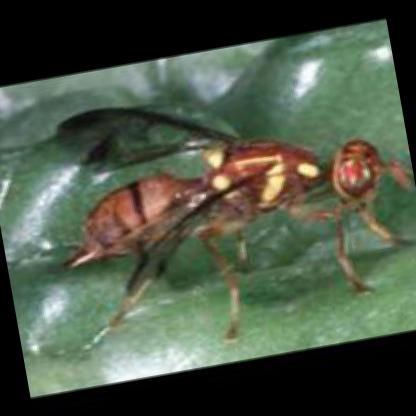fruit fly: (57, 104, 407, 337)
